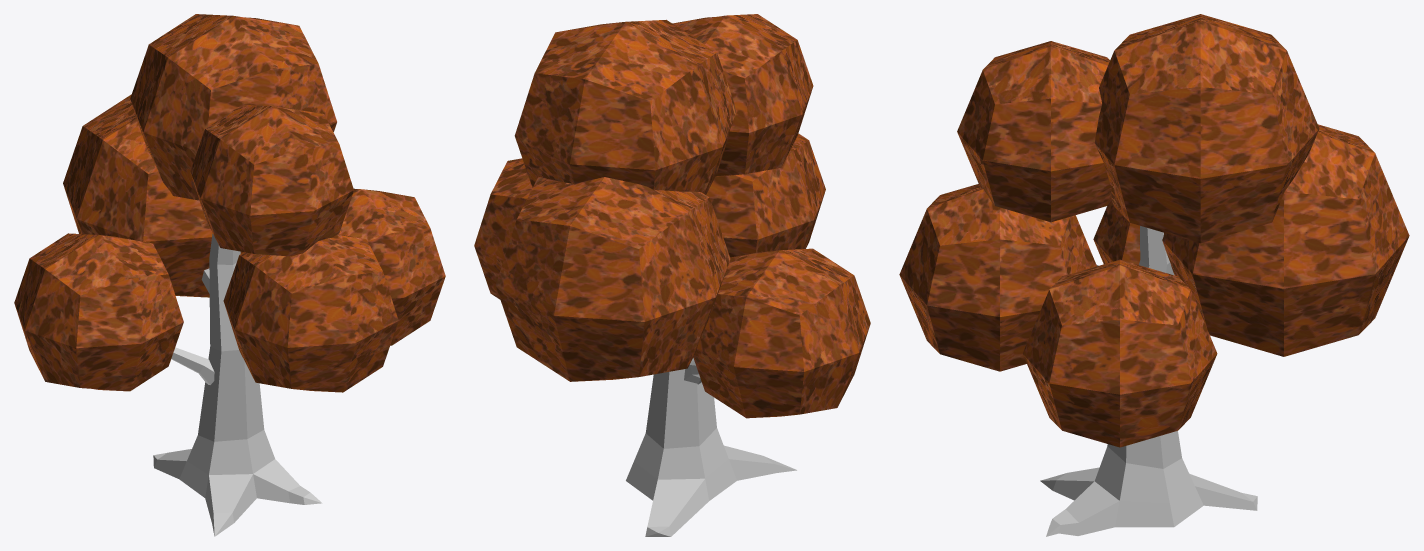
Rendered from Beech.fbx.
The picture shows the model from 3 angles, left to right: view 1: azimuth 30°, elevation 25°; view 2: azimuth 150°, elevation 25°; view 3: azimuth 270°, elevation 25°; orthographic projection. The views are drawn at different scales.
Parts seen in each view (by area): view 1: tree; view 2: tree; view 3: tree.
Boxes of the visible parts, x1=… form: tree: x1=14, y1=14, x2=445, y2=536; tree: x1=474, y1=14, x2=870, y2=536; tree: x1=899, y1=14, x2=1409, y2=536.
Size of the model in its own units: 844 by 960 by 864.
